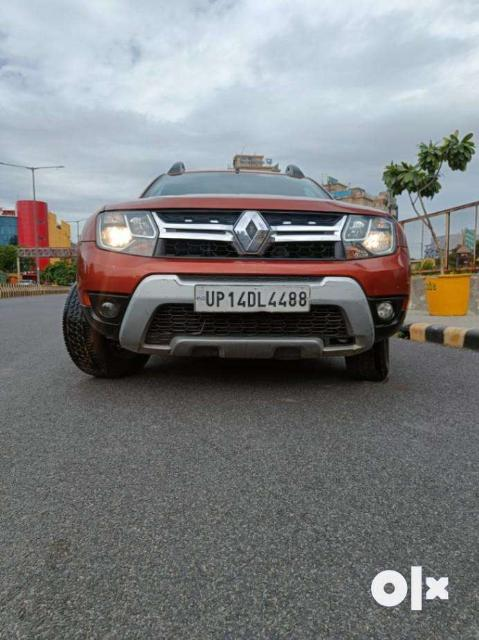Indian_Number_Plate: (196, 284, 310, 312)
